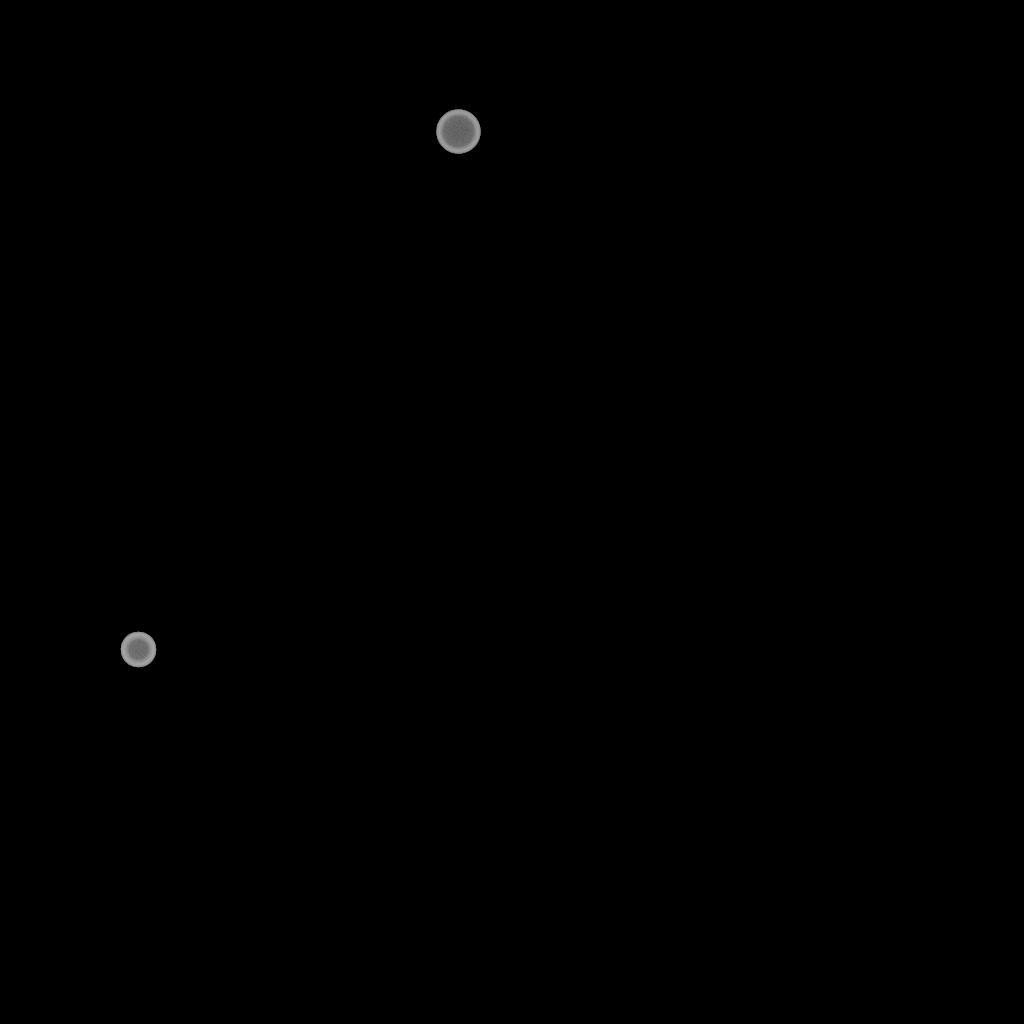depth:-60: (120, 632, 156, 668)
depth:-70: (436, 110, 480, 154)
